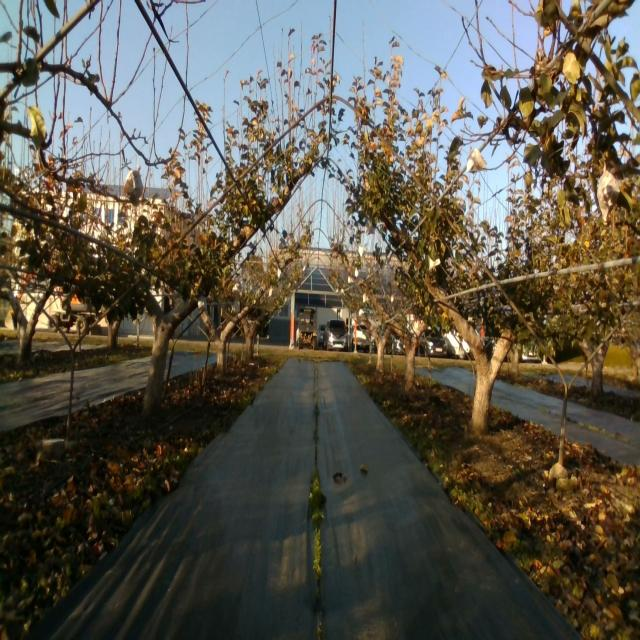pearbags: (597, 170, 620, 223), (124, 164, 143, 208), (467, 147, 486, 173), (364, 218, 376, 236)
